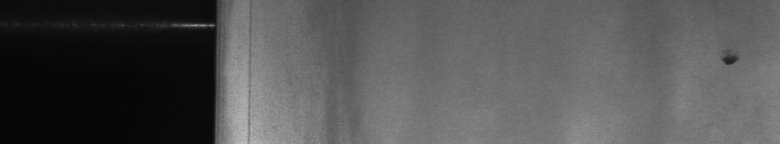fi: (716, 44, 744, 72)
